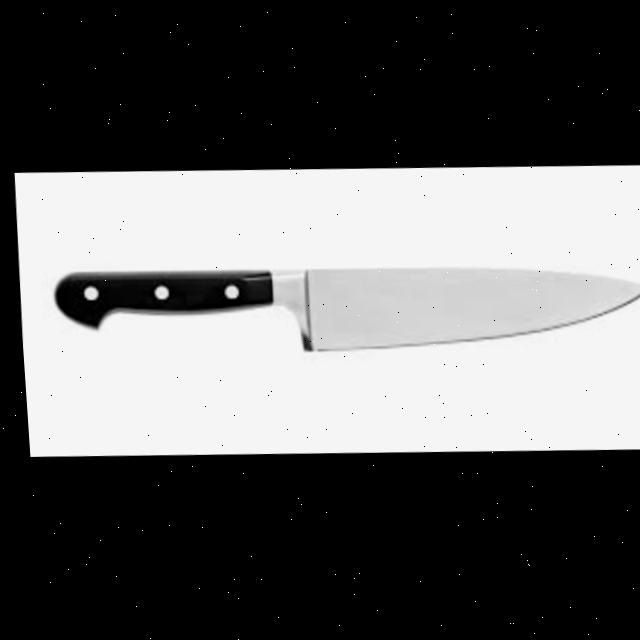Knife: (48, 254, 640, 364)
